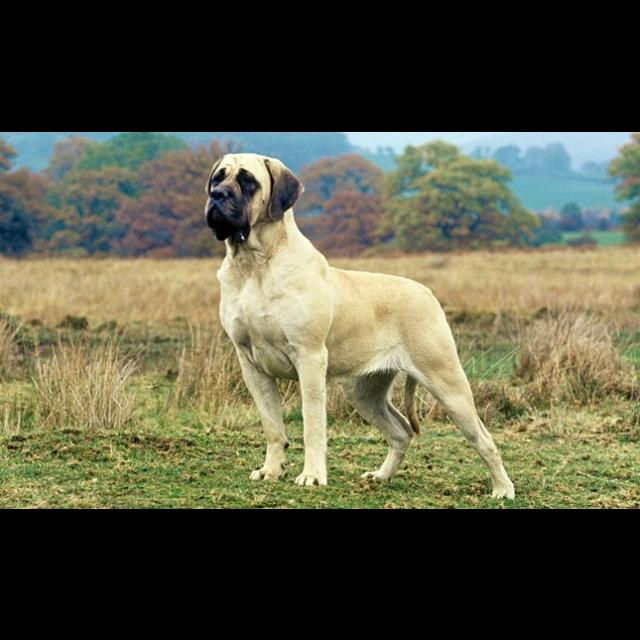mastiff: (205, 152, 517, 500)
